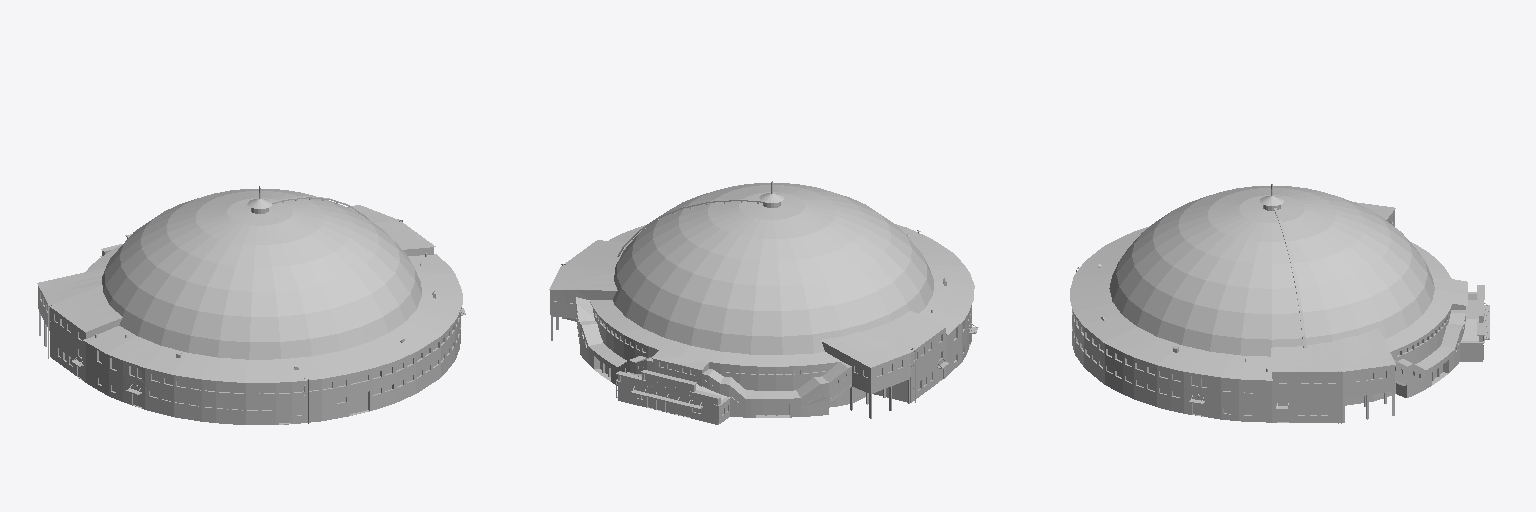
The model's file is circ.obj.
The picture shows the model from 3 angles: view 1: azimuth 30°, elevation 25°; view 2: azimuth 150°, elevation 25°; view 3: azimuth 270°, elevation 25°; orthographic projection.
Visible parts, largest first — view 1: Sphere.001; view 2: Sphere.001; view 3: Sphere.001.
Boxes of the visible parts, box(x1,y1,x2,y2) form: Sphere.001: box(37, 186, 465, 424); Sphere.001: box(549, 181, 978, 424); Sphere.001: box(1070, 184, 1489, 423).
Bounding box in the file's own units: 28.57 × 12.48 × 28.9.